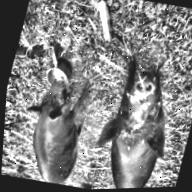boar: (85, 53, 187, 189), (8, 72, 97, 188)
